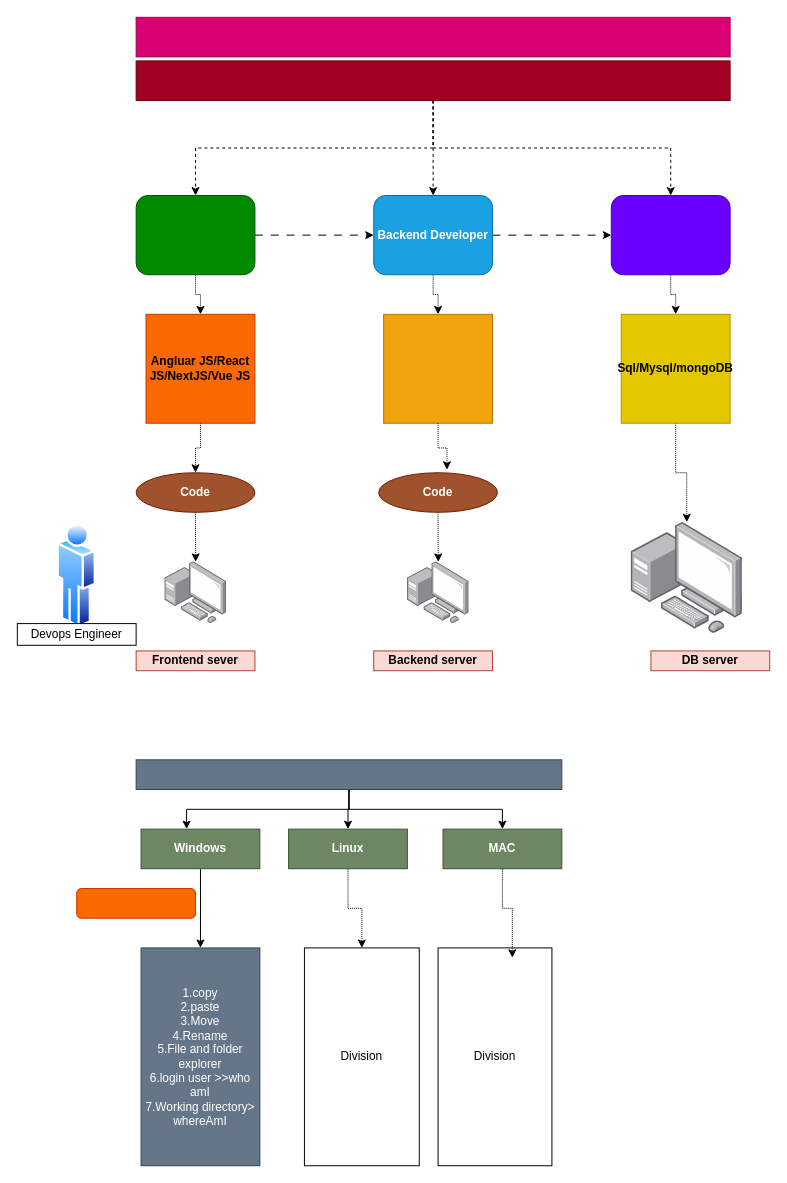
This 787x1183 diagram has some shape labels left out. Here are the shapes that lost their labels. From the top down, the centre of each, then its label:
At [432,36]: "LinkedIN".
At [432,80]: "3 Tier Application\website".
At [195,235]: "Front End Devleoper".
At [670,235]: "Database Administrator".
At [438,368]: "NodeJS/Java/ .net/python".
At [348,774]: "Serever Have OS".
At [136,903]: "Windows Operations".
